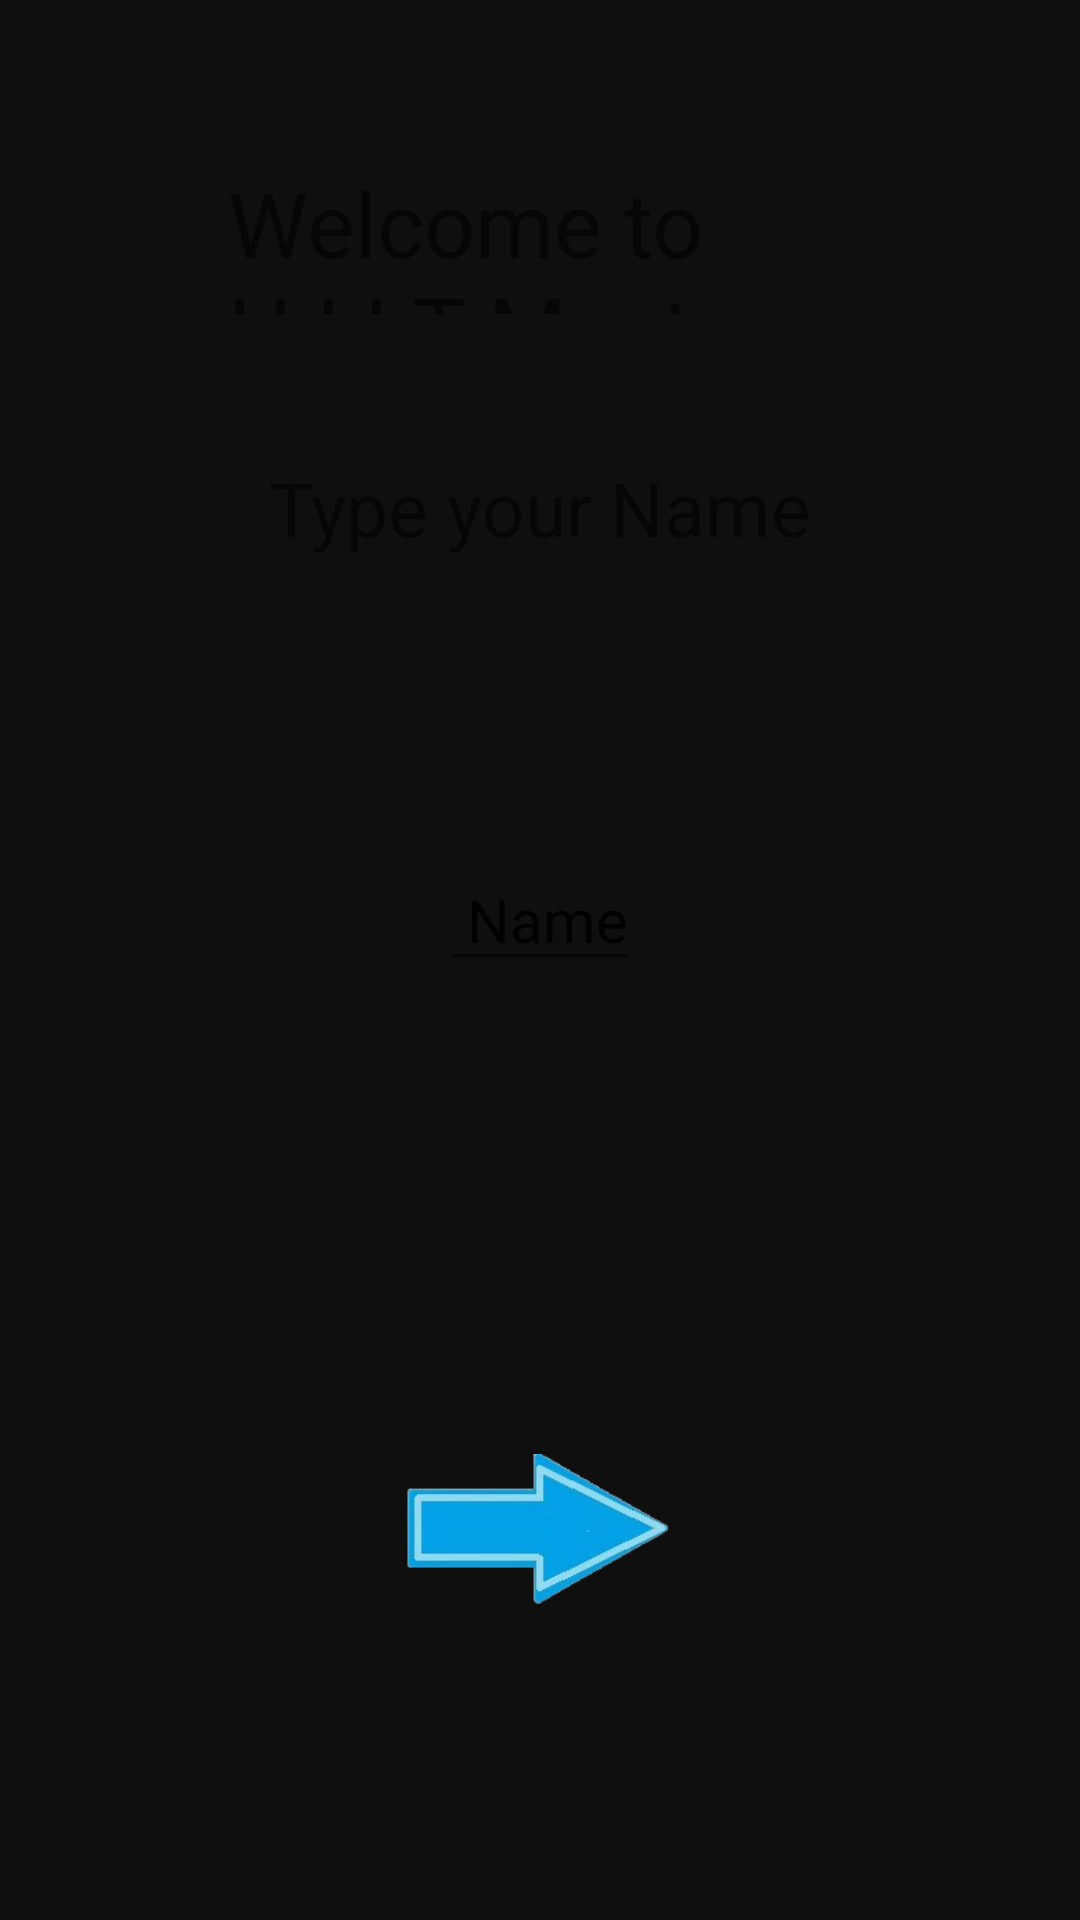

Icon bounding boxes for this 1080*1920 phone screenshot, format (x1, y1, x2, y2):
arrow: (407, 1454, 668, 1604)
